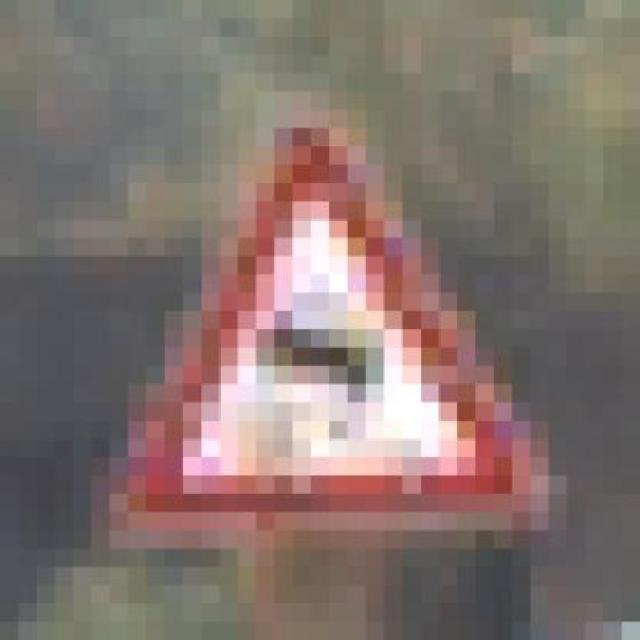Slippery Road Ahead: (93, 108, 569, 530)
